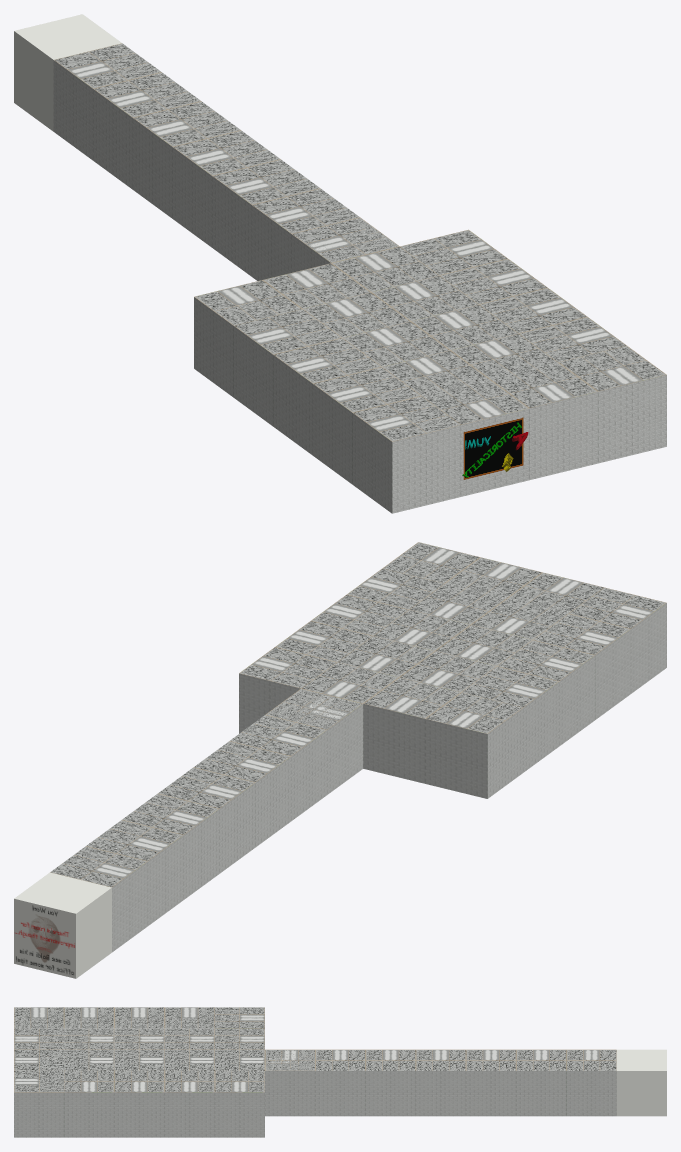
The model's file is secret.dae.
3 views of the same model, one above another, from view 1: azimuth 30°, elevation 25°; view 2: azimuth 150°, elevation 25°; view 3: azimuth 270°, elevation 25° (orthographic). The views are drawn at different scales.
Parts seen in each view (by area): view 1: BaldisOffice-col; view 2: BaldisOffice-col; view 3: BaldisOffice-col.
Part boxes in pixels (x1=…): BaldisOffice-col: x1=14, y1=14, x2=666, y2=513; BaldisOffice-col: x1=14, y1=542, x2=666, y2=978; BaldisOffice-col: x1=14, y1=1007, x2=666, y2=1137.
Bounding box in the file's own units: 40 × 130 × 10.
1 material, 1 textured.
